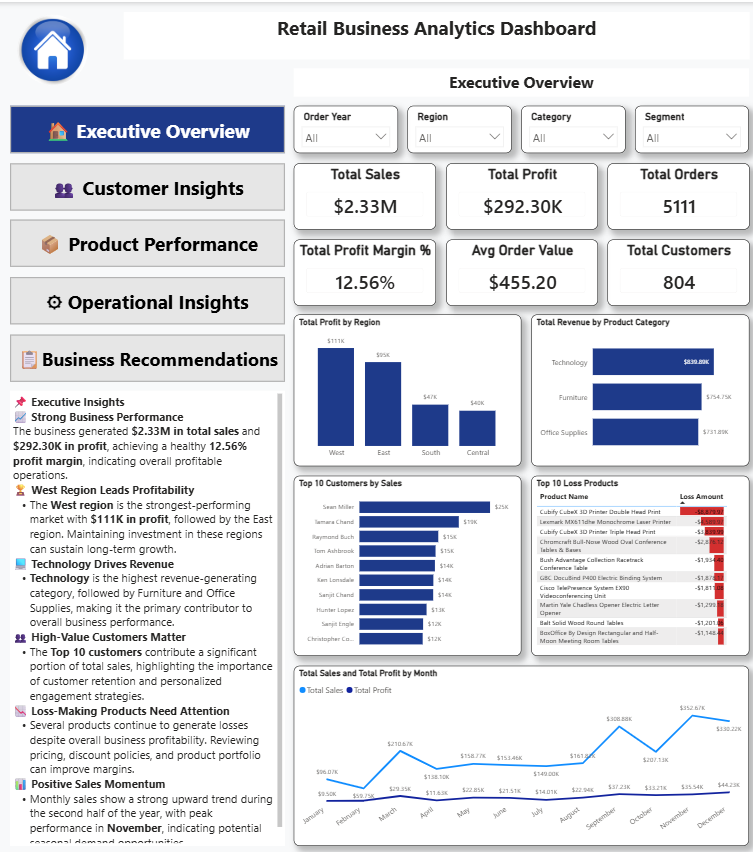

The page's visual inventory and layout, read from the dashboard file:
{"tool":"powerbi","page":{"name":"Executive Overview","canvas":[1280,1440],"ordinal":1},"visuals":[{"type":"clusteredBarChart","title":"Total Revenue by Product Category","fields":{"Category":["samplesuperstore.Category"],"Y":["Sum(samplesuperstore.Sales)"]},"box":[896,528,368,256],"z":0},{"type":"clusteredColumnChart","title":"Total Profit by Region","fields":{"Y":["Sum(samplesuperstore.Profit)"],"Category":["samplesuperstore.Region"]},"box":[496,528,384,256],"z":1000},{"type":"lineChart","fields":{"Y":["samplesuperstore.Total Sales","samplesuperstore.Total Profit"],"Category":["samplesuperstore.Order Date.Variation.Date Hierarchy.Month"]},"box":[496,1120,768,304],"z":2000},{"type":"barChart","title":"Top 10 Customers by Sales","fields":{"Y":["Sum(samplesuperstore.Sales)"],"Category":["samplesuperstore.Customer Name"]},"box":[496,800,384,304],"z":3000},{"type":"tableEx","title":"Top 10 Loss Products","fields":{"Values":["samplesuperstore.Product Name","Sum(samplesuperstore.Profit)"]},"box":[896,800,368,304],"z":4000},{"type":"cardVisual","title":"Total Sales","fields":{"Data":["Sum(samplesuperstore.Sales)"]},"box":[496,272,240,112],"z":5000},{"type":"cardVisual","title":"Total Profit","fields":{"Data":["samplesuperstore.Total Profit"]},"box":[752,272,256,112],"z":6000},{"type":"cardVisual","title":"Total Orders","fields":{"Data":["samplesuperstore.Total Orders"]},"box":[1024,272,240,112],"z":7000},{"type":"cardVisual","title":"Total Customers","fields":{"Data":["samplesuperstore.Total Customers"]},"box":[1024,400,240,112],"z":8000},{"type":"cardVisual","title":"Total Profit Margin %","fields":{"Data":["samplesuperstore.Profit Margin %"]},"box":[496,400,240,112],"z":9000},{"type":"textbox","box":[208,16,1056,80],"z":10000},{"type":"slicer","fields":{"Values":["samplesuperstore.Region"]},"box":[688,176,176,80],"z":11000},{"type":"slicer","fields":{"Values":["samplesuperstore.Order Year"]},"box":[496,176,176,80],"z":12000},{"type":"slicer","fields":{"Values":["samplesuperstore.Category"]},"box":[880,176,176,80],"z":13000},{"type":"slicer","fields":{"Values":["samplesuperstore.Segment"]},"box":[1072,176,192,80],"z":14000},{"type":"textbox","box":[496,112,768,48],"z":15000},{"type":"cardVisual","title":"Avg Order Value","fields":{"Data":["samplesuperstore.Average Order Value"]},"box":[752,400,256,112],"z":16000},{"type":"actionButton","box":[16,272,464,80],"z":17000},{"type":"actionButton","box":[16,368,464,80],"z":18000},{"type":"actionButton","box":[16,464,464,80],"z":19000},{"type":"actionButton","box":[16,560,464,80],"z":20000},{"type":"image","box":[16,16,144,128],"z":21000},{"type":"textbox","box":[16,656,464,768],"z":21001},{"type":"actionButton","box":[16,176,464,80],"z":21002}]}

Visuals, with their boxes in screenshot pixels (x1, y1, x2, y2), scaled from the page's 1280x1440 canvas onto the 753x852 screenshot:
"Total Revenue by Product Category" clusteredBarChart: Rect(527, 312, 744, 464)
"Total Profit by Region" clusteredColumnChart: Rect(292, 312, 518, 464)
lineChart - samplesuperstore.Total Sales x samplesuperstore.Total Profit: Rect(292, 663, 744, 843)
"Top 10 Customers by Sales" barChart: Rect(292, 473, 518, 653)
"Top 10 Loss Products" tableEx: Rect(527, 473, 744, 653)
"Total Sales" cardVisual: Rect(292, 161, 433, 227)
"Total Profit" cardVisual: Rect(442, 161, 593, 227)
"Total Orders" cardVisual: Rect(602, 161, 744, 227)
"Total Customers" cardVisual: Rect(602, 237, 744, 303)
"Total Profit Margin %" cardVisual: Rect(292, 237, 433, 303)
textbox: Rect(122, 9, 744, 57)
slicer - samplesuperstore.Region: Rect(405, 104, 508, 151)
slicer - samplesuperstore.Order Year: Rect(292, 104, 395, 151)
slicer - samplesuperstore.Category: Rect(518, 104, 621, 151)
slicer - samplesuperstore.Segment: Rect(631, 104, 744, 151)
textbox: Rect(292, 66, 744, 95)
"Avg Order Value" cardVisual: Rect(442, 237, 593, 303)
actionButton: Rect(9, 161, 282, 208)
actionButton: Rect(9, 218, 282, 265)
actionButton: Rect(9, 275, 282, 322)
actionButton: Rect(9, 331, 282, 379)
image: Rect(9, 9, 94, 85)
textbox: Rect(9, 388, 282, 843)
actionButton: Rect(9, 104, 282, 151)
